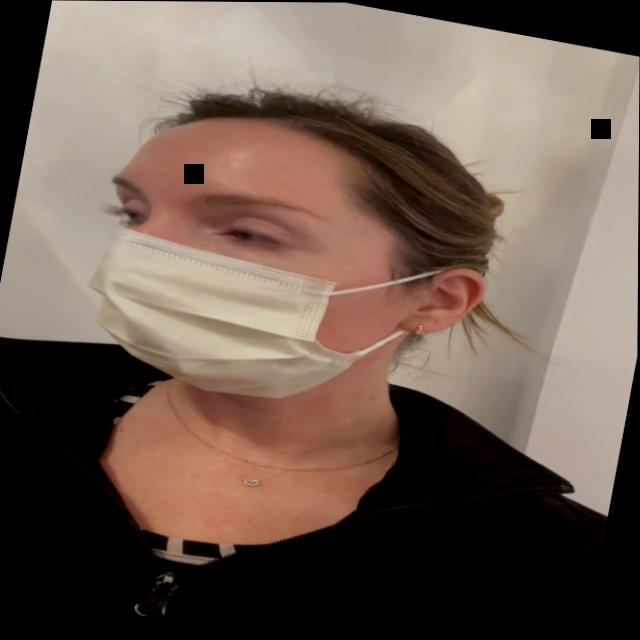Mask: (72, 95, 469, 430)
